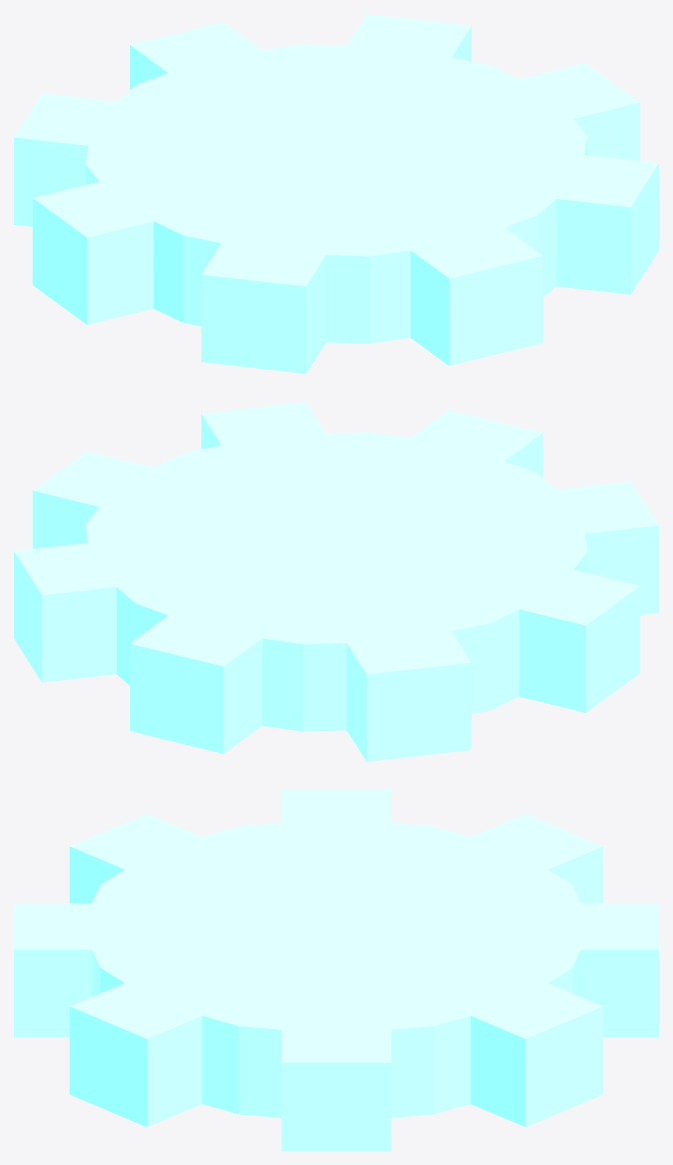
File: pickup_gear.glb
3 renders of one model, top to bottom at view 1: azimuth 30°, elevation 25°; view 2: azimuth 150°, elevation 25°; view 3: azimuth 270°, elevation 25°, orthographic.
Parts seen in each view (by area): view 1: Ring, Tooth_5, Tooth_6, Tooth_4, Tooth_7, Tooth_3, Tooth_0, Tooth_2, Tooth_1; view 2: Ring, Tooth_2, Tooth_3, Tooth_4, Tooth_1, Tooth_5, Tooth_0, Tooth_6, Tooth_7; view 3: Ring, Tooth_1, Tooth_7, Tooth_0, Tooth_2, Tooth_6, Tooth_3, Tooth_5, Tooth_4.
Part boxes in pixels (<box>): Ring: <box>85,44,587,343</box>; Tooth_5: <box>201,235,330,373</box>; Tooth_6: <box>410,221,542,365</box>; Tooth_4: <box>32,179,168,324</box>; Tooth_7: <box>538,154,658,294</box>; Tooth_3: <box>14,93,115,226</box>; Tooth_0: <box>504,63,640,160</box>; Tooth_2: <box>130,22,269,89</box>; Tooth_1: <box>342,14,471,61</box>; Ring: <box>85,432,587,731</box>; Tooth_2: <box>130,609,271,753</box>; Tooth_3: <box>342,623,471,761</box>; Tooth_4: <box>503,566,640,712</box>; Tooth_1: <box>14,542,116,682</box>; Tooth_5: <box>538,481,658,614</box>; Tooth_0: <box>32,451,165,548</box>; Tooth_6: <box>402,410,542,477</box>; Tooth_7: <box>201,402,330,452</box>; Ring: <box>81,818,591,1117</box>; Tooth_1: <box>457,977,603,1127</box>; Tooth_7: <box>69,977,214,1127</box>; Tooth_0: <box>281,1021,391,1150</box>; Tooth_2: <box>561,903,658,1037</box>; Tooth_6: <box>14,903,111,1037</box>; Tooth_3: <box>459,813,603,903</box>; Tooth_5: <box>69,813,214,903</box>; Tooth_4: <box>281,790,391,831</box>.
Bounding box in the file's own units: 1.06 × 0.16 × 1.06.
